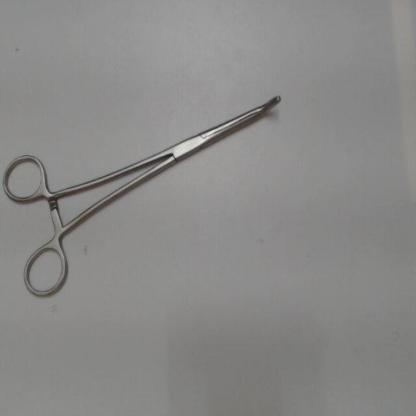Lahey Forceps: (1, 87, 286, 305)
